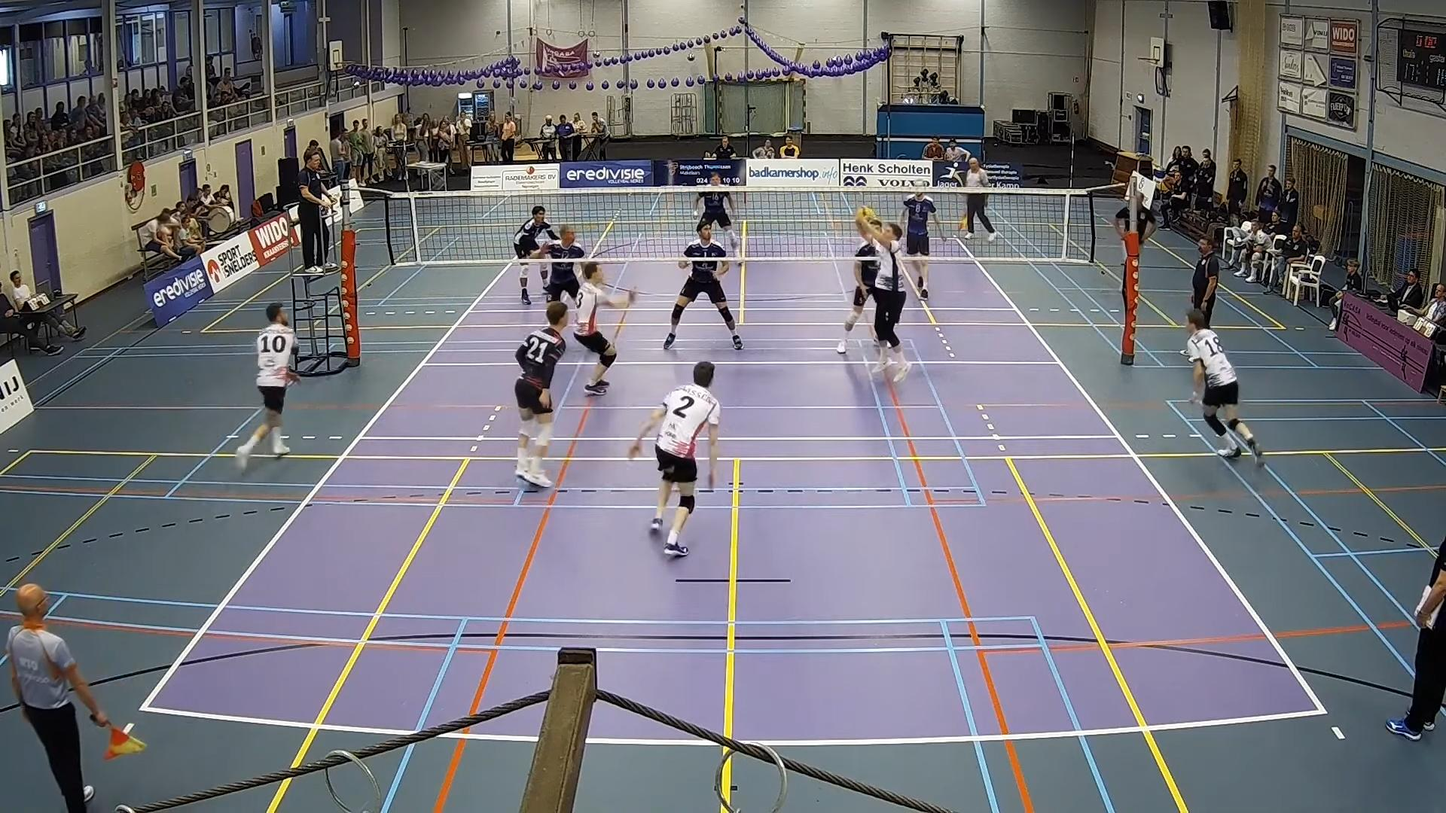Player: (628, 361, 720, 556), (1186, 309, 1263, 465), (236, 303, 298, 468), (514, 302, 568, 487), (664, 222, 742, 349), (574, 260, 636, 394), (837, 227, 879, 353), (514, 206, 557, 303), (531, 226, 585, 303), (903, 189, 936, 300), (695, 173, 738, 249)
Set: (843, 208, 910, 386)
ball: (854, 208, 879, 222)
